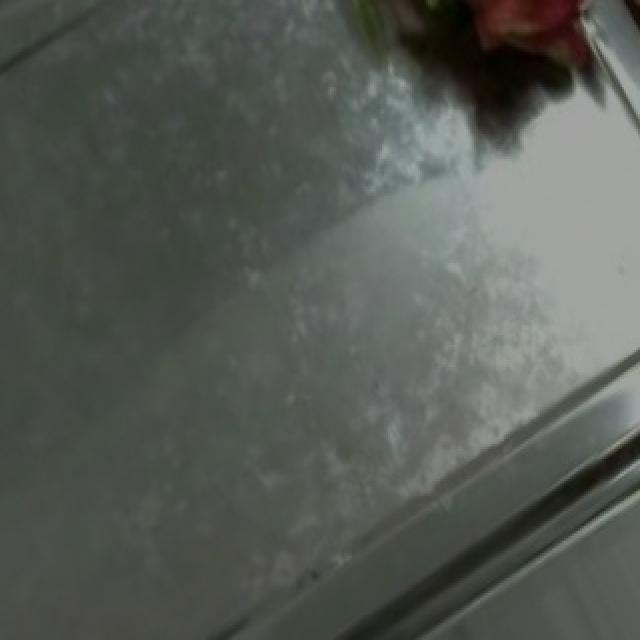fruit: (246, 0, 638, 159)
